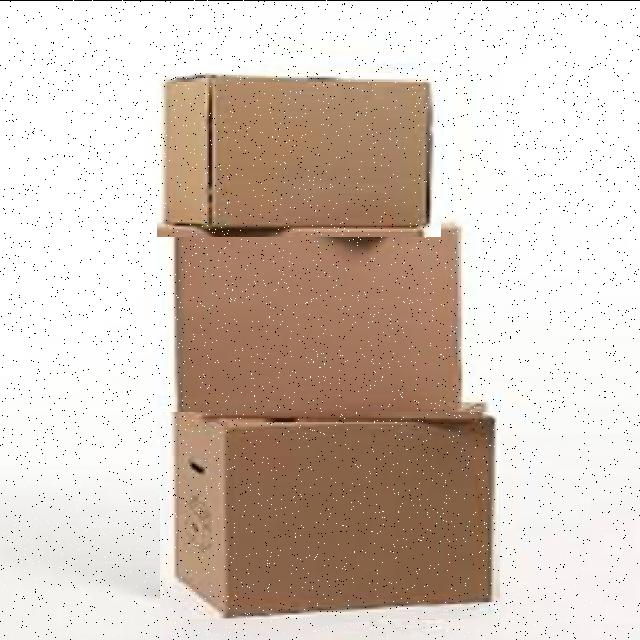normal: (160, 411, 500, 618), (170, 222, 464, 420), (157, 72, 441, 236)
